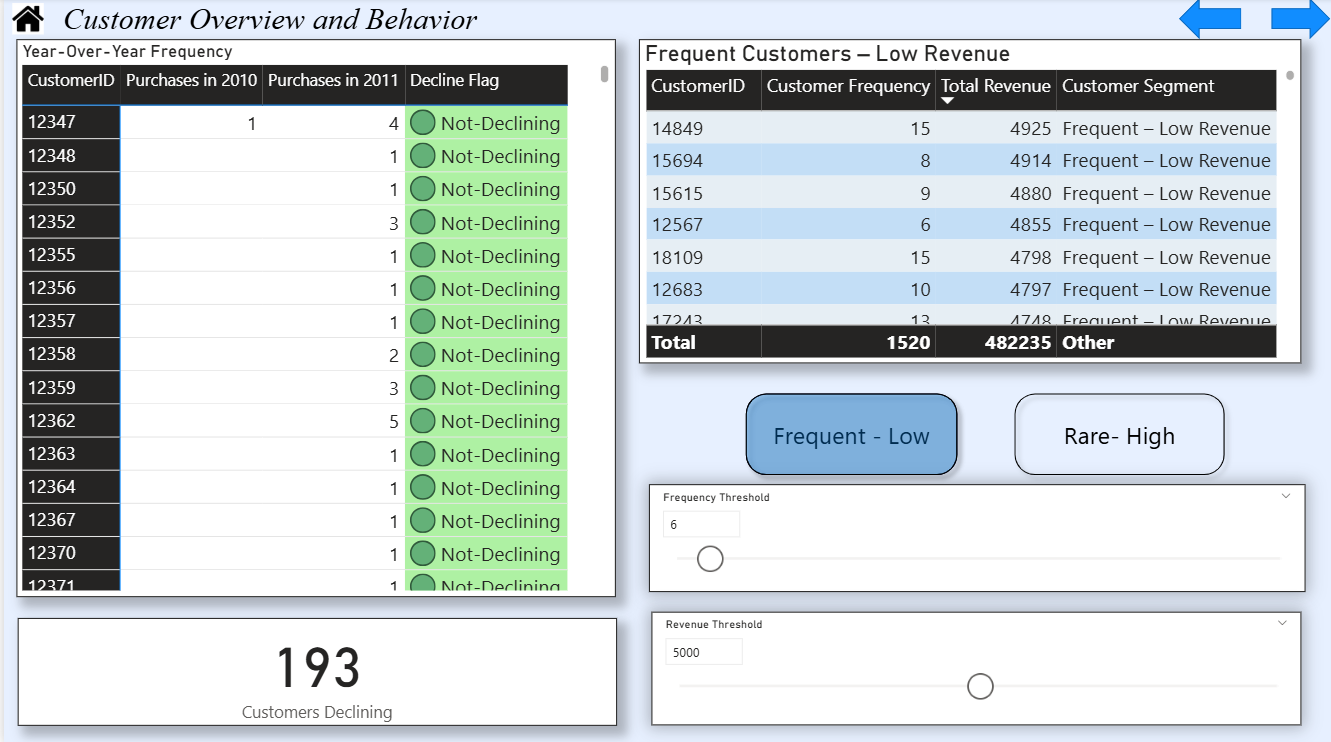

This screenshot's page, from the dashboard's own definition file:
{"tool":"powerbi","page":{"name":"Customer Overview & Behavior","canvas":[1280,720],"ordinal":1},"visuals":[{"type":"tableEx","title":"Frequent Customers – Low Revenue","fields":{"Values":["Dim_Customers.CustomerID","Dim_Customers.#CustomerFrequency","Dim_Customers.#TotalRevenue","Dim_Customers.#CustomerSegment"]},"box":[613.2,40.4,639.1,313.1],"z":0},{"type":"slicer","fields":{"Values":["Frequency Threshold.Frequency Threshold"]},"box":[618.9,598.7,633.4,103.9],"z":1000},{"type":"slicer","fields":{"Values":["Revenue Threshold.Revenue Threshold"]},"box":[618.9,468.9,627.6,109.6],"z":2000},{"type":"shape","box":[1223.3,0,56.7,39.8],"z":4000},{"type":"shape","box":[1134.1,0,60.3,39.8],"z":5000},{"type":"image","box":[0,0,45.8,39.8],"z":6000},{"type":"shape","box":[45.8,0,422.3,39.8],"z":7000},{"type":"shape","title":"FL ","box":[707,372.2,222.2,96.7],"z":8000},{"type":"shape","title":"RH","box":[966.7,372.2,220.7,96.7],"z":9000},{"type":"shape","title":"FL Cover","box":[707,372.2,222.2,96.7],"z":10000},{"type":"pivotTable","title":"Year-Over-Year Frequency","fields":{"Rows":["Dim_Customers.CustomerID"],"Values":["Measure.#Freq_2010","Measure.#Freq_2011","Measure.#DeclineFlag"]},"box":[11.5,40.4,578.5,538.2],"z":12000},{"type":"card","fields":{"Values":["Measure.#DecliningCustomer"]},"box":[13,598.7,578.5,103.9],"z":13000}]}

Visuals, with their boxes in screenshot pixels (x1, y1, x2, y2), scaled from the page's 1280x720 canvas onto the 1331x742 screenshot:
"Frequent Customers – Low Revenue" tableEx: box(638, 42, 1302, 364)
slicer - Frequency Threshold.Frequency Threshold: box(644, 617, 1302, 724)
slicer - Revenue Threshold.Revenue Threshold: box(644, 483, 1296, 596)
shape: box(1272, 0, 1330, 41)
shape: box(1179, 0, 1242, 41)
image: box(0, 0, 48, 41)
shape: box(48, 0, 487, 41)
"FL " shape: box(735, 384, 966, 483)
"RH" shape: box(1005, 384, 1235, 483)
"FL Cover" shape: box(735, 384, 966, 483)
"Year-Over-Year Frequency" pivotTable: box(12, 42, 614, 596)
card - Measure.#DecliningCustomer: box(14, 617, 615, 724)
